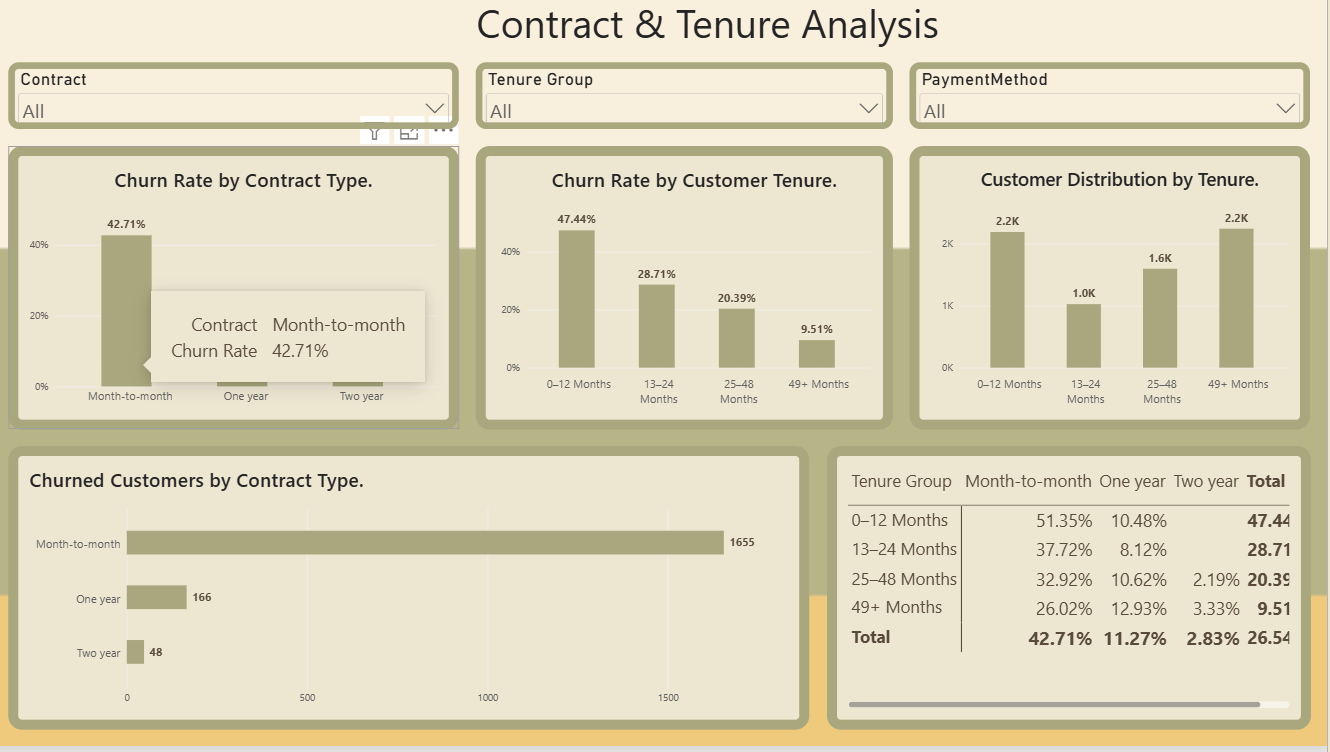

Layout of this report page (visuals, bound fields, positions):
{"tool":"powerbi","page":{"name":"Contract & Tenure Analysis","canvas":[1920,1080],"ordinal":2},"visuals":[{"type":"textbox","box":[0,0,1920,96],"z":0},{"type":"clusteredColumnChart","title":"Churn Rate by Contract Type.","fields":{"Category":["CustomerChurn.Contract"],"Y":["Measure.Churn Rate"]},"box":[24,216,648,408],"z":1},{"type":"clusteredBarChart","title":"Churned Customers by Contract Type.","fields":{"Category":["CustomerChurn.Contract"],"Y":["Measure.Churned Customers"]},"box":[24,648,1152,408],"z":2},{"type":"clusteredColumnChart","title":"Churn Rate by Customer Tenure.","fields":{"Category":["CustomerChurn.Tenure Group"],"Y":["Measure.Churn Rate"]},"box":[696,216,600,408],"z":3},{"type":"clusteredColumnChart","title":"Customer Distribution by Tenure.","fields":{"Category":["CustomerChurn.Tenure Group"],"Y":["Measure.Total Customers"]},"box":[1320,216,576,408],"z":4},{"type":"pivotTable","fields":{"Columns":["CustomerChurn.Contract"],"Rows":["CustomerChurn.Tenure Group"],"Values":["Measure.Churn Rate"]},"box":[1200,648,696,408],"z":5},{"type":"slicer","fields":{"Values":["CustomerChurn.Contract"]},"box":[24,96,648,96],"z":6},{"type":"slicer","fields":{"Values":["CustomerChurn.Tenure Group"]},"box":[696,96,600,96],"z":7},{"type":"slicer","fields":{"Values":["CustomerChurn.PaymentMethod"]},"box":[1320,96,576,96],"z":8}]}

Visuals, with their boxes in screenshot pixels (x1, y1, x2, y2), scaled from the page's 1920x1080 canvas onto the 1330x752 screenshot:
textbox: 0, 0, 1329, 67
"Churn Rate by Contract Type." clusteredColumnChart: 17, 150, 466, 434
"Churned Customers by Contract Type." clusteredBarChart: 17, 451, 815, 735
"Churn Rate by Customer Tenure." clusteredColumnChart: 482, 150, 898, 434
"Customer Distribution by Tenure." clusteredColumnChart: 914, 150, 1313, 434
pivotTable - CustomerChurn.Contract x CustomerChurn.Tenure Group: 831, 451, 1313, 735
slicer - CustomerChurn.Contract: 17, 67, 466, 134
slicer - CustomerChurn.Tenure Group: 482, 67, 898, 134
slicer - CustomerChurn.PaymentMethod: 914, 67, 1313, 134
